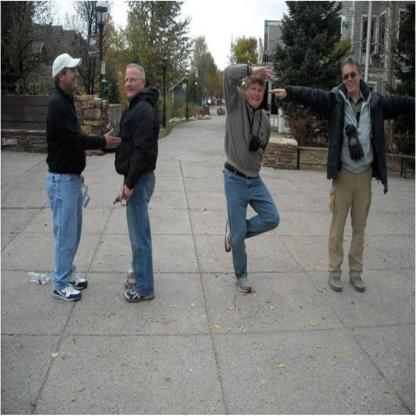face: (344, 65, 360, 92), (126, 70, 140, 98), (250, 83, 263, 108), (66, 65, 80, 88)
